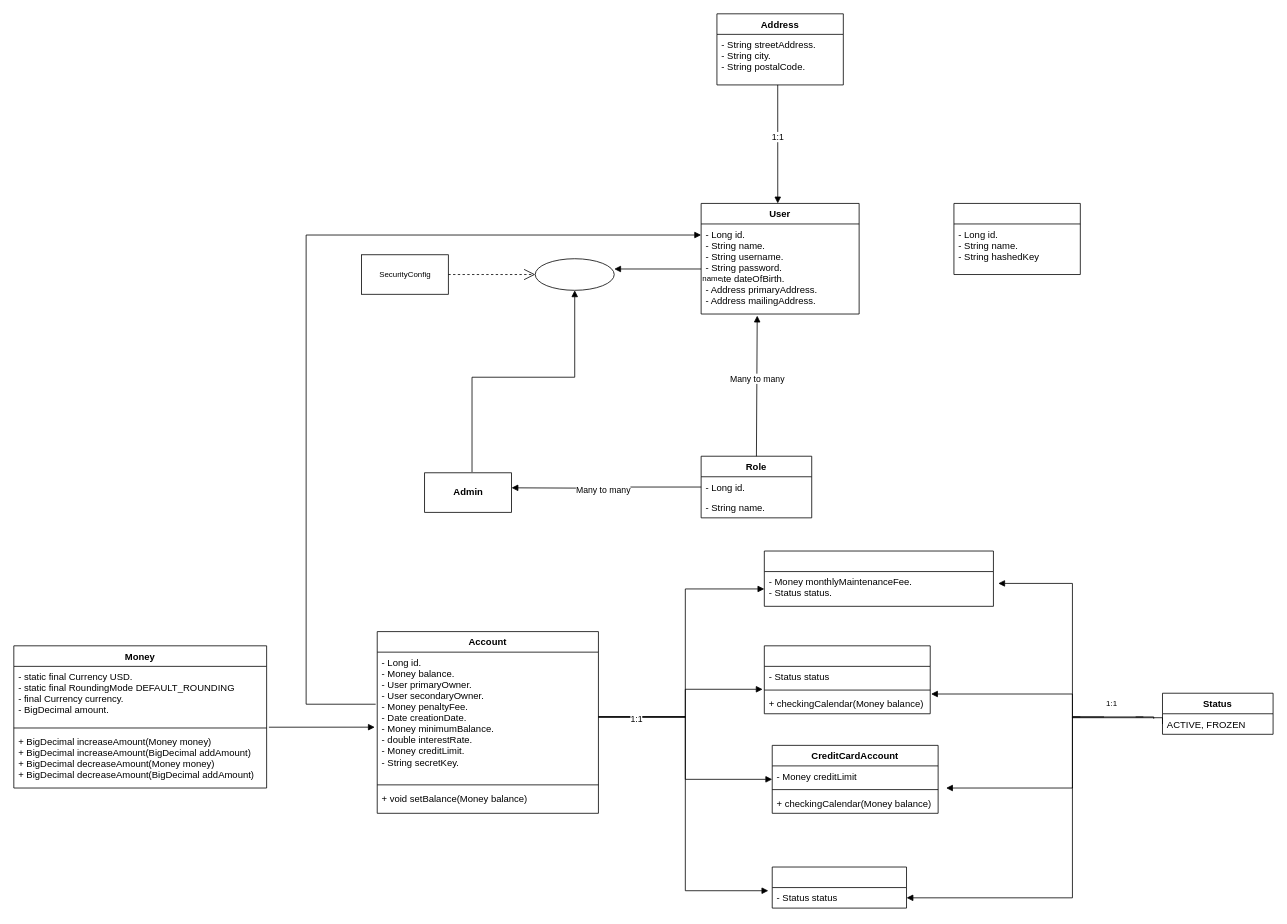
The diagram is 1287 pixels wide and 924 high, and some of its shapes have lost their labels. The box of each missing label's shape, as (x1, y1, x2, y2) in pixels:
CheckingAccount: (764, 550, 993, 606)
Login: (534, 258, 614, 290)
SavingAccount: (764, 645, 930, 714)
StudentCheckingAccount: (771, 866, 907, 908)
ThirdParty: (953, 203, 1080, 275)
